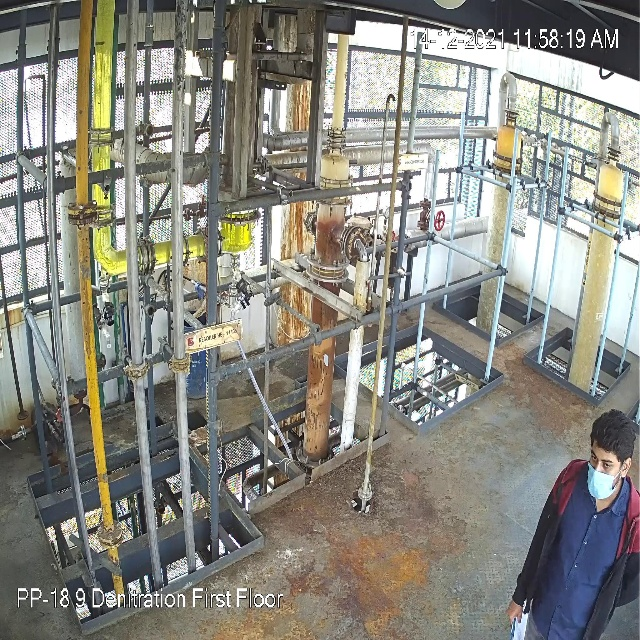Sin_gafas: (588, 451, 617, 475)
